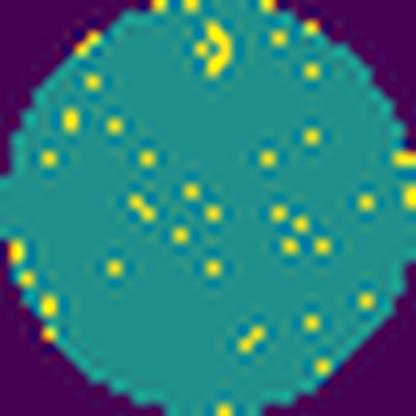Edge-Loc: (206, 22, 235, 80)
